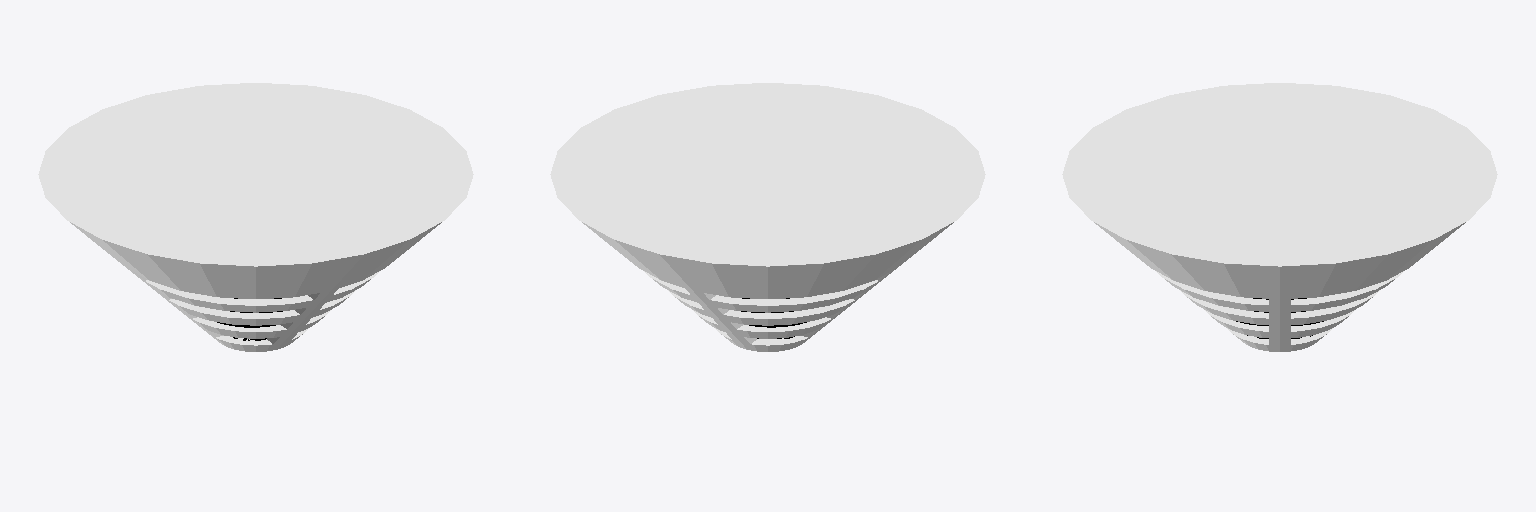
Rendered from Rauchmelder.obj.
The picture shows the model from 3 angles: view 1: azimuth 30°, elevation 25°; view 2: azimuth 150°, elevation 25°; view 3: azimuth 270°, elevation 25°; orthographic projection.
Parts seen in each view (by area): view 1: Mesh1 Model; view 2: Mesh1 Model; view 3: Mesh1 Model.
Part boxes in pixels (left/top/right/bottom): Mesh1 Model: left=38, top=83, right=473, bottom=351; Mesh1 Model: left=550, top=83, right=985, bottom=351; Mesh1 Model: left=1062, top=83, right=1497, bottom=351.
Size of the model in its own units: 0.16 by 0.066 by 0.16.